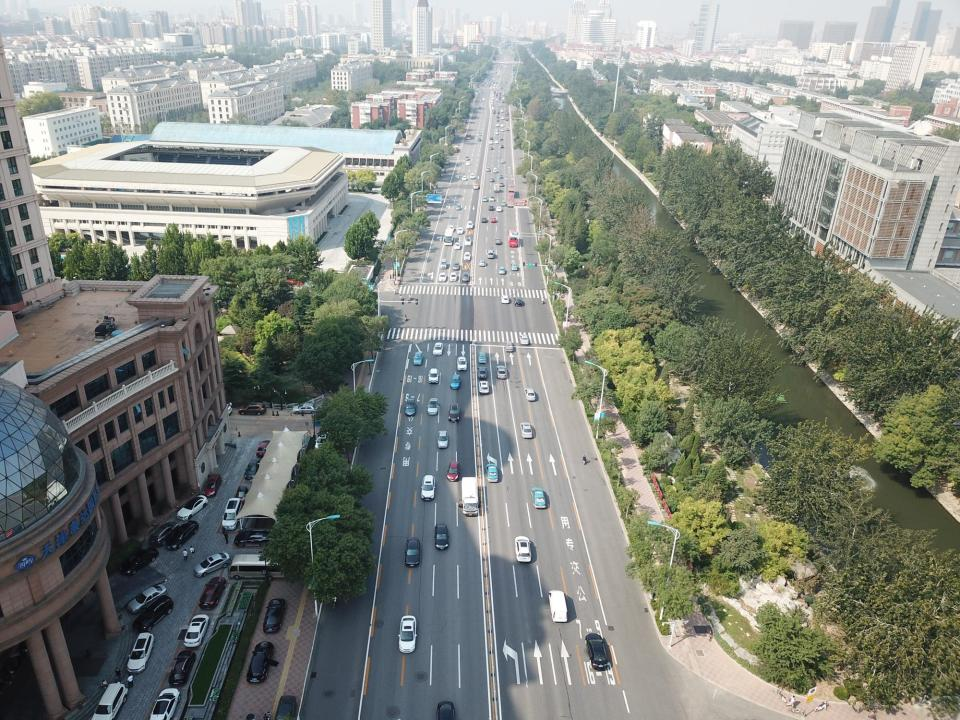bus: (508, 229, 517, 248), (444, 228, 453, 245), (506, 193, 514, 207), (507, 184, 515, 198), (466, 131, 472, 139)
car: (132, 594, 173, 633), (246, 641, 280, 683), (127, 583, 167, 613), (120, 546, 160, 576), (164, 520, 198, 550), (149, 688, 180, 720), (192, 551, 230, 577), (168, 650, 196, 685), (198, 577, 226, 609), (262, 598, 287, 633), (176, 494, 208, 521), (184, 614, 210, 647), (585, 633, 607, 671), (235, 530, 281, 548), (148, 521, 179, 546), (398, 615, 418, 653), (273, 695, 297, 720), (404, 536, 421, 568), (202, 474, 222, 498), (514, 536, 532, 562), (433, 523, 449, 551), (420, 474, 436, 501), (244, 458, 262, 480), (530, 487, 547, 509), (314, 430, 331, 452), (238, 402, 266, 415), (292, 402, 320, 414), (446, 461, 461, 482), (206, 403, 232, 415), (256, 440, 273, 458), (436, 700, 455, 716), (447, 403, 462, 422), (234, 485, 249, 504), (486, 464, 500, 482), (426, 398, 440, 416), (436, 430, 449, 448), (520, 422, 534, 438), (404, 398, 416, 416), (456, 356, 468, 371), (428, 368, 439, 384), (523, 388, 536, 401), (432, 342, 444, 356), (450, 374, 461, 389), (479, 381, 490, 394), (477, 366, 488, 379), (496, 365, 506, 379), (413, 352, 422, 366), (477, 352, 487, 364), (519, 334, 529, 345), (505, 341, 514, 352), (438, 272, 447, 282), (462, 272, 470, 282), (501, 295, 509, 304), (514, 297, 522, 306), (449, 272, 457, 281), (452, 262, 460, 270), (498, 266, 506, 274), (463, 252, 471, 260), (464, 238, 472, 246), (466, 221, 474, 229), (478, 259, 486, 266), (510, 264, 518, 270), (454, 242, 460, 250), (448, 224, 454, 231), (457, 227, 463, 234), (490, 217, 497, 223), (500, 200, 507, 206), (495, 238, 501, 244), (481, 217, 487, 223), (455, 204, 461, 210), (496, 206, 502, 212), (488, 205, 494, 211), (482, 196, 488, 202), (473, 183, 479, 189), (489, 196, 495, 201), (462, 175, 467, 181), (470, 173, 475, 179), (499, 182, 504, 187), (466, 160, 470, 166), (489, 178, 494, 182), (498, 174, 502, 179), (486, 167, 490, 172), (500, 160, 505, 164), (465, 156, 470, 160), (489, 140, 493, 144), (490, 146, 493, 150), (499, 145, 503, 148), (478, 138, 481, 142), (495, 140, 498, 144)
truck: (460, 476, 479, 516), (452, 145, 459, 153), (443, 156, 450, 164), (494, 184, 500, 192)
van: (228, 554, 286, 580), (91, 683, 128, 720), (126, 632, 155, 674), (548, 590, 569, 623), (222, 498, 243, 530), (440, 258, 447, 269), (487, 250, 494, 258), (493, 167, 497, 173)
